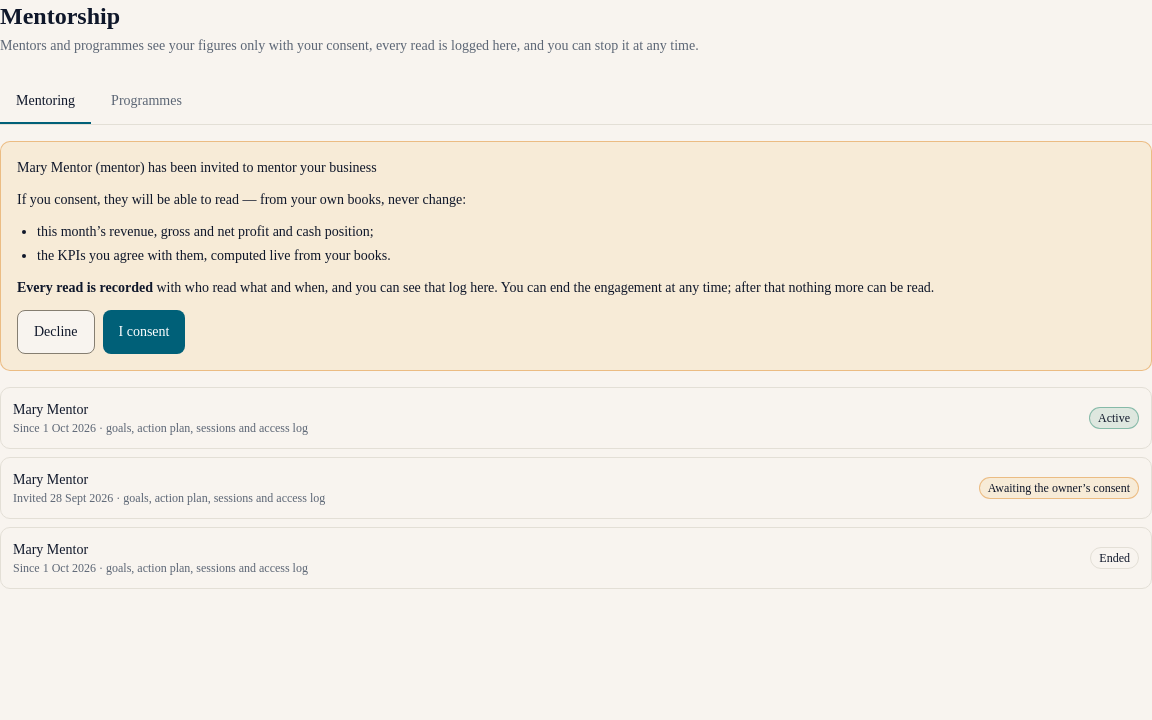
Test: an engagement on my business › ends the engagement, after which the mentor can read nothing
Click the button with aria-label "Mary Mentor · Active": (51, 410) [0, 387, 1151, 449]
(page scrolled)
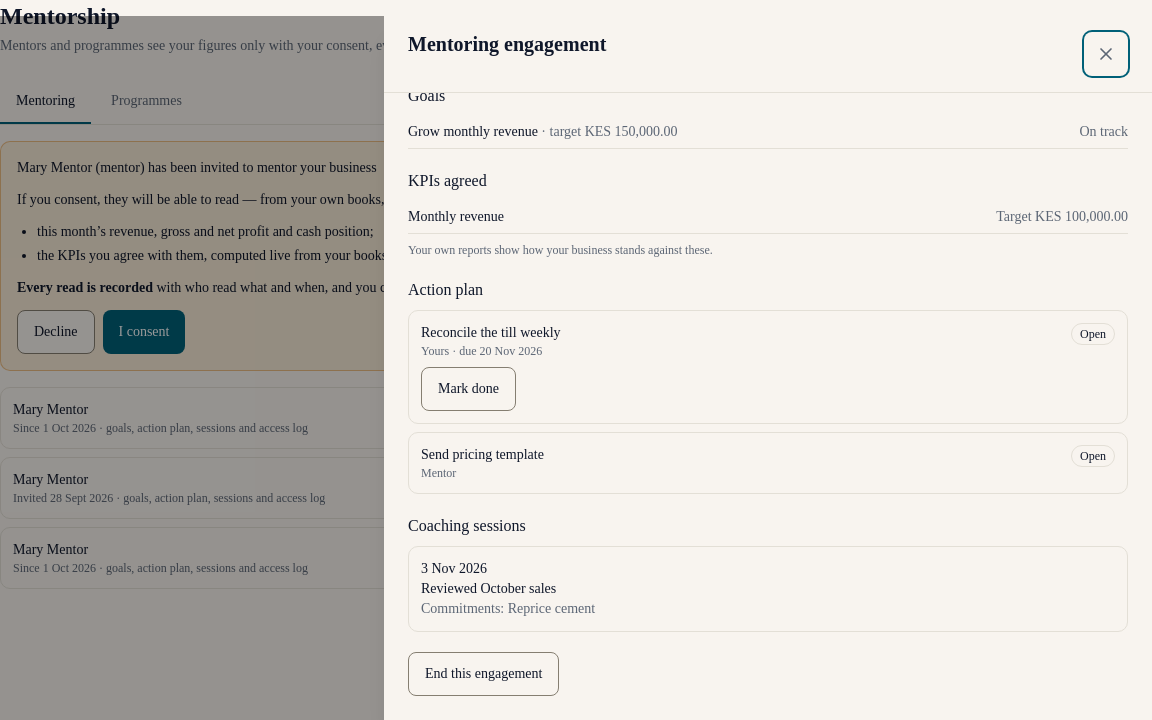
Click the button "End this engagement": (484, 674) [408, 652, 559, 696]
(page scrolled)
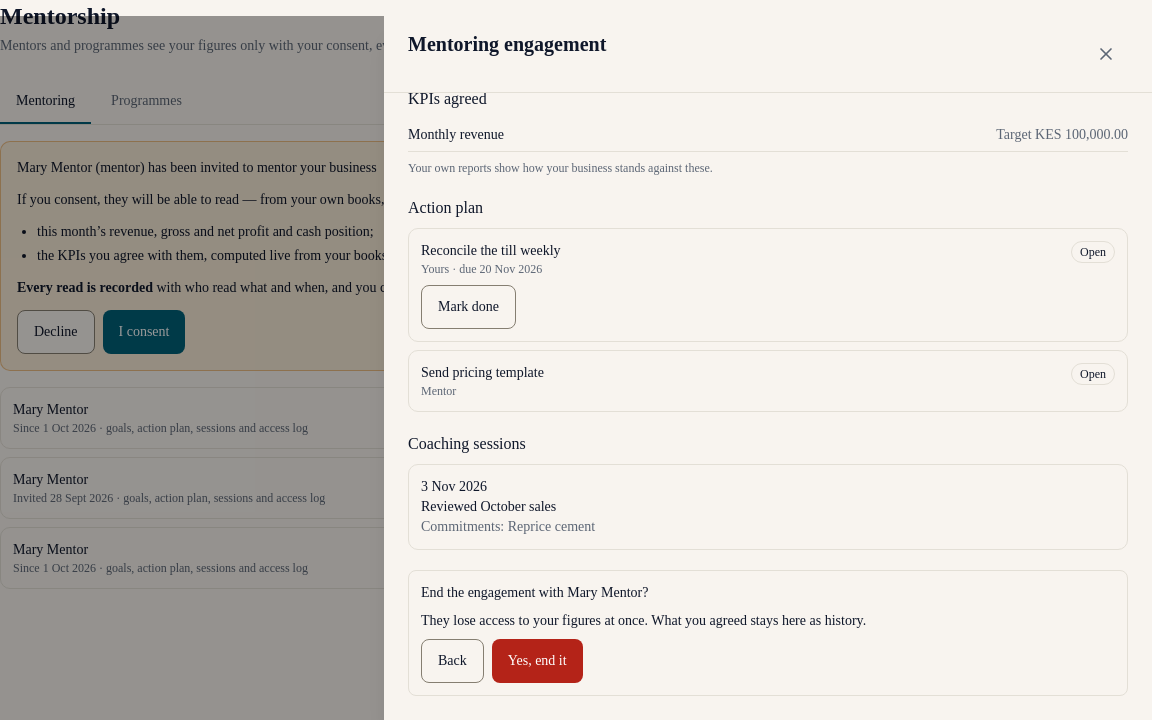
Click the button "Yes, end it": (537, 661) [492, 639, 583, 683]
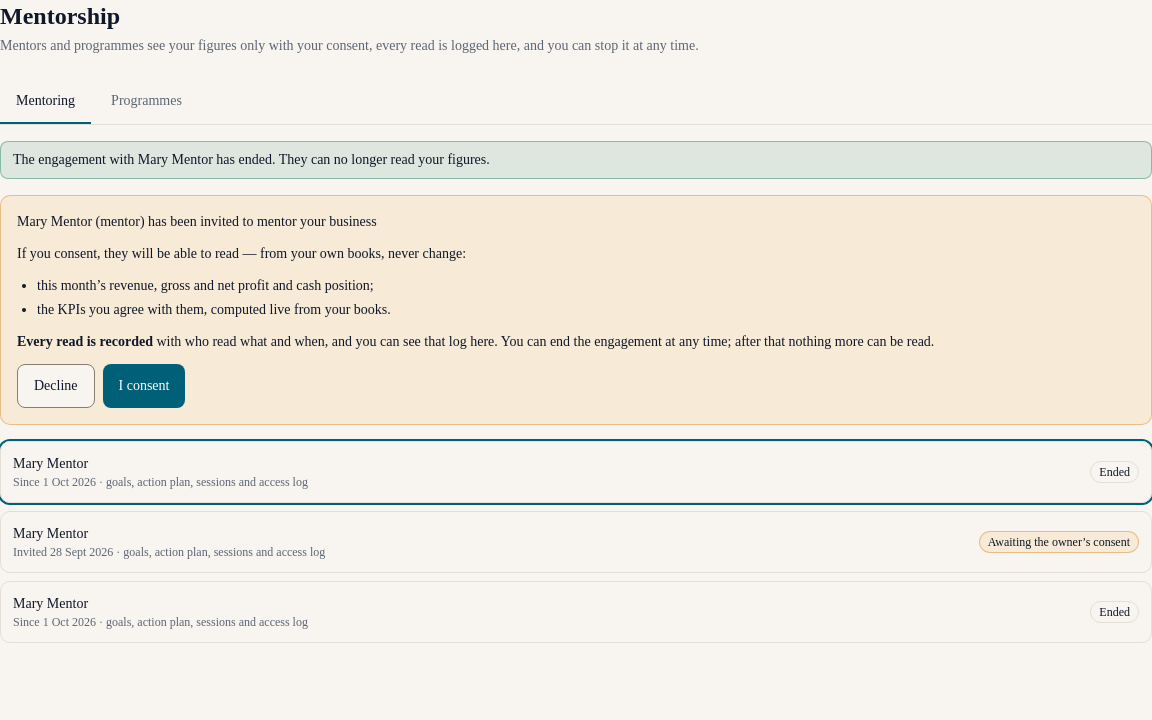
Now the text "They can no longer read your figures" is shown, box [13, 152, 490, 167]
